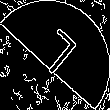L_SW: (29, 26, 81, 84)
